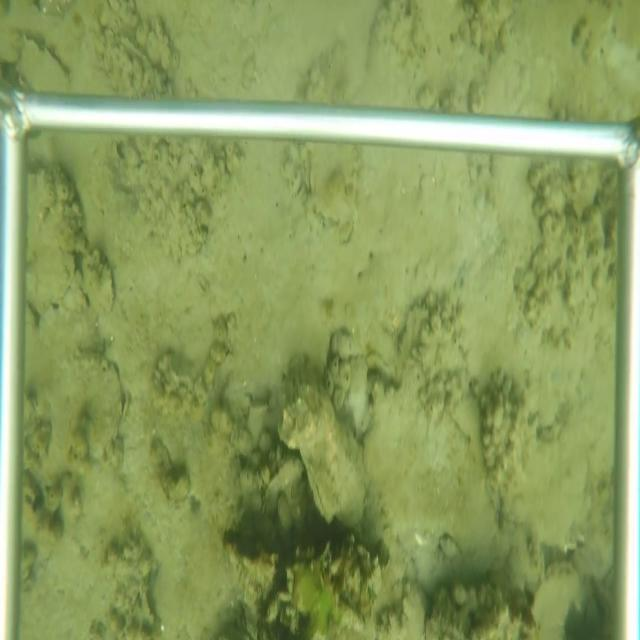Oyster-Closed: (298, 424, 375, 529), (527, 560, 599, 639)
Oyster-Indeterminate: (69, 345, 128, 457), (275, 381, 339, 452), (14, 27, 74, 91), (258, 459, 304, 520), (79, 249, 117, 318)
